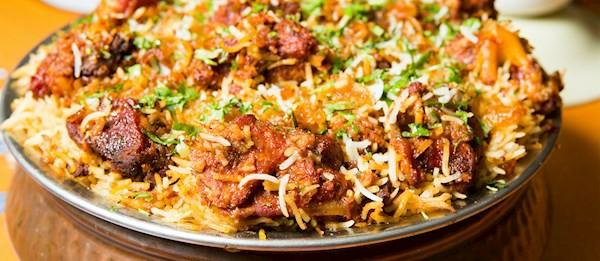Biryani: (1, 0, 564, 238)
